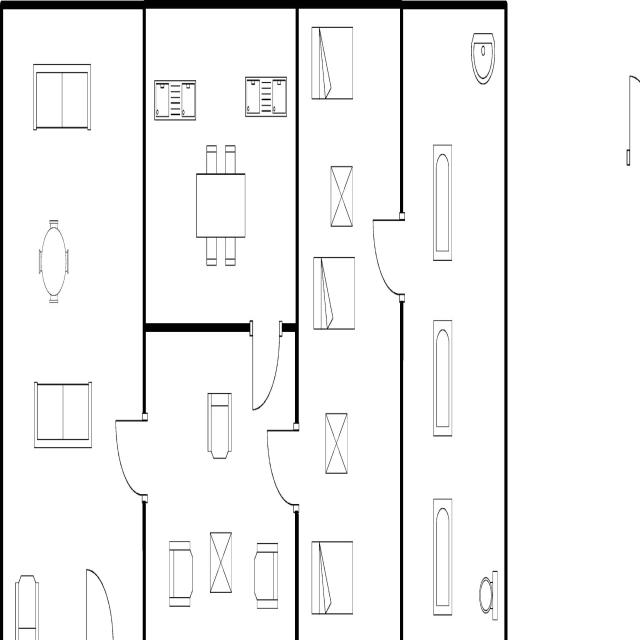armchair: (249, 534, 284, 625), (203, 381, 238, 470), (165, 530, 197, 622), (10, 566, 37, 640)
bed: (309, 17, 359, 116), (308, 530, 358, 629), (310, 250, 360, 340)
coffee_table: (206, 522, 237, 603), (328, 152, 356, 239), (322, 404, 350, 480)
dining_table: (190, 133, 250, 276)
large_sink: (476, 558, 502, 634)
large_sofa: (29, 371, 95, 462), (29, 54, 94, 145)
round_table: (34, 205, 72, 316)
small_sink: (468, 24, 498, 92)
tub: (430, 131, 456, 273), (429, 309, 455, 448), (430, 491, 456, 629)
twin_sink: (241, 70, 291, 131), (150, 69, 198, 130)
